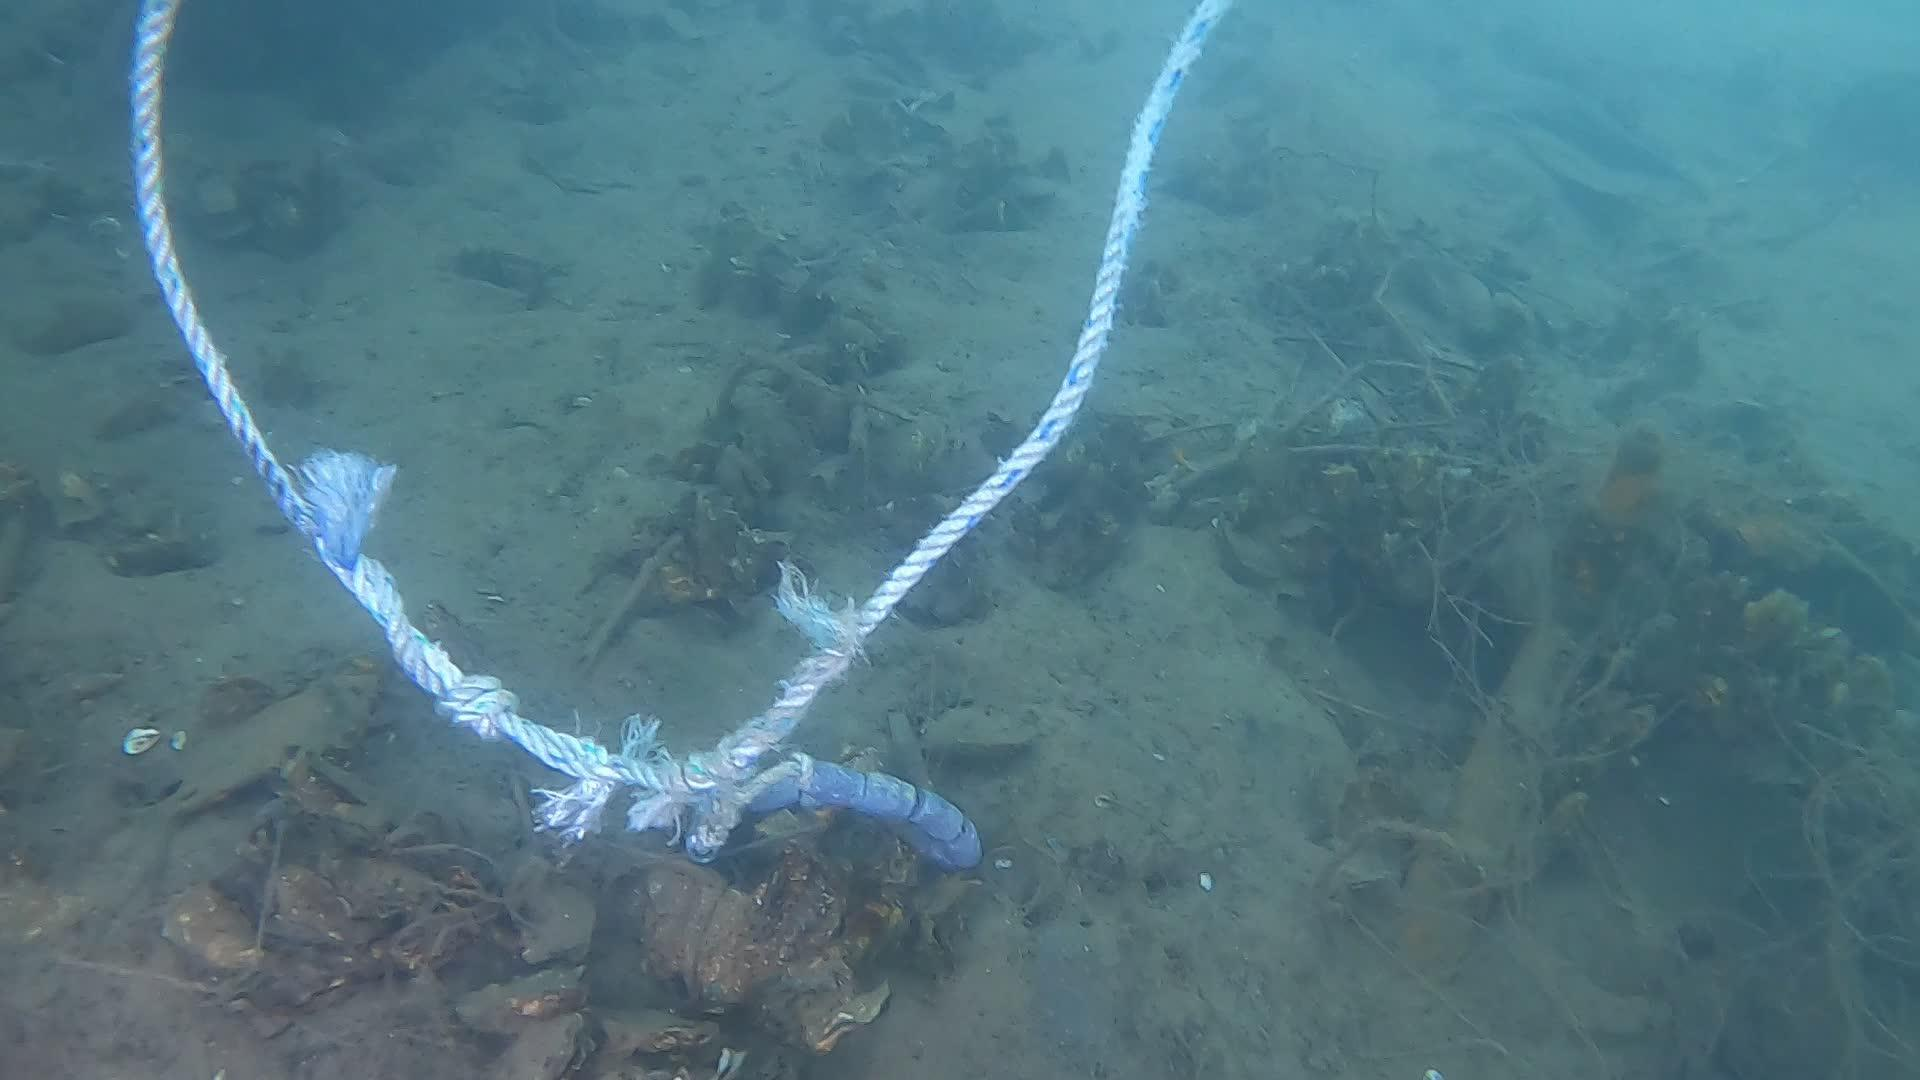bundle of ropes: (129, 0, 1232, 790)
